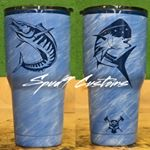cups: (2, 4, 76, 150), (77, 3, 150, 148)
